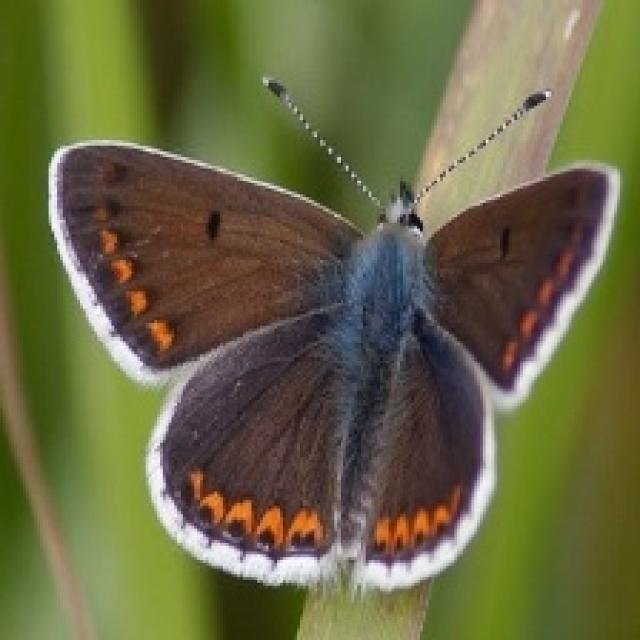butterfly: (43, 71, 620, 600)
